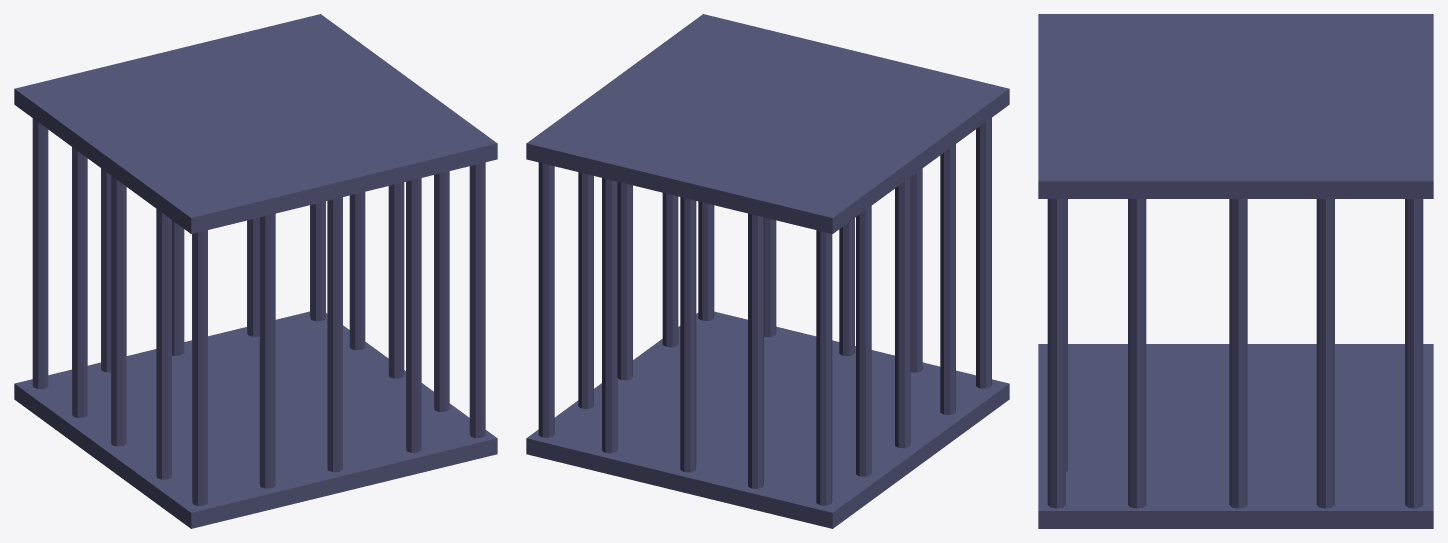
The model's file is JaulaMetal.fbx.
The picture shows the model from 3 angles, left to right: view 1: azimuth 30°, elevation 25°; view 2: azimuth 150°, elevation 25°; view 3: azimuth 270°, elevation 25°; orthographic projection. The views are drawn at different scales.
Parts seen in each view (by area): view 1: Cube.008; view 2: Cube.008; view 3: Cube.008.
Boxes of the visible parts, x1,y1,x2,y2 form: Cube.008: (14,14,497,528); Cube.008: (526,14,1009,528); Cube.008: (1038,14,1433,528).
Size of the model in its own units: 837 by 837 by 812.
